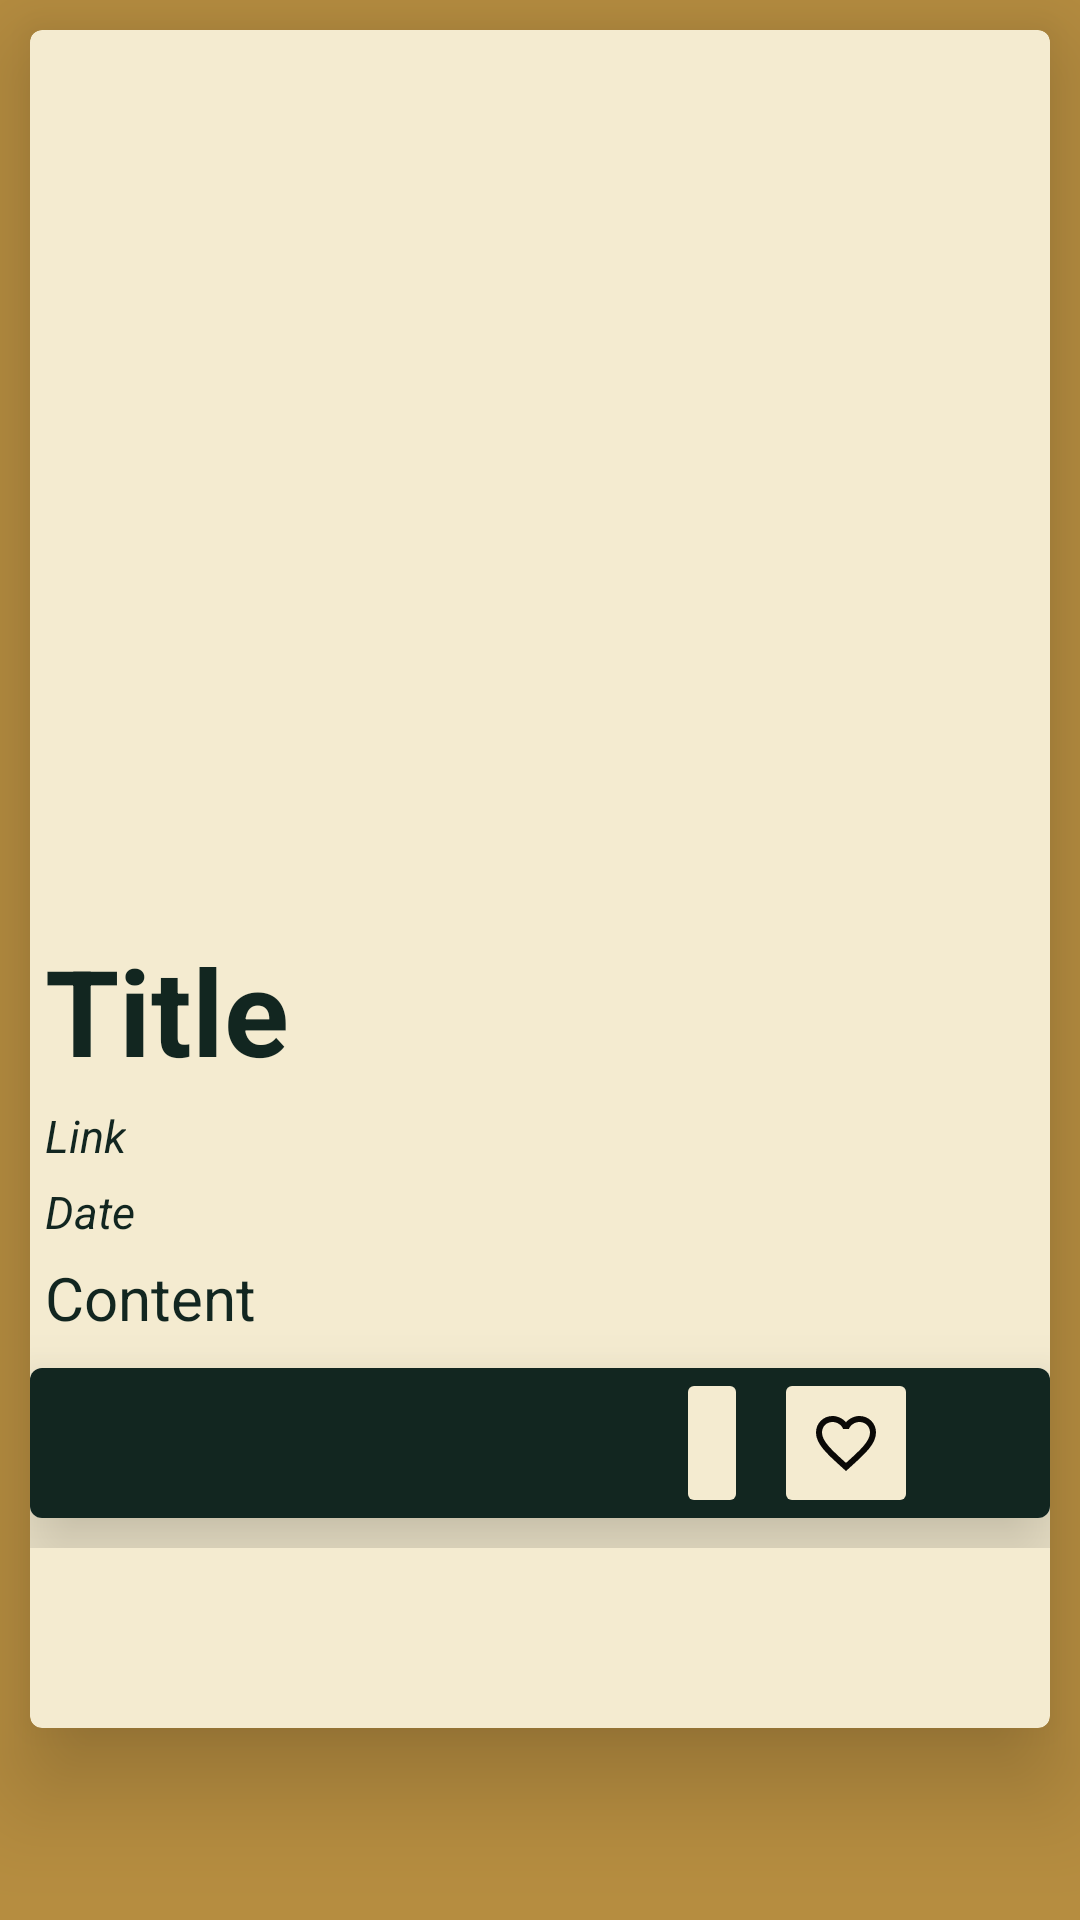

Named icons in this screenshot (1080 x 1920) and their centers, [x,y]:
Favourites: [846,1443]
